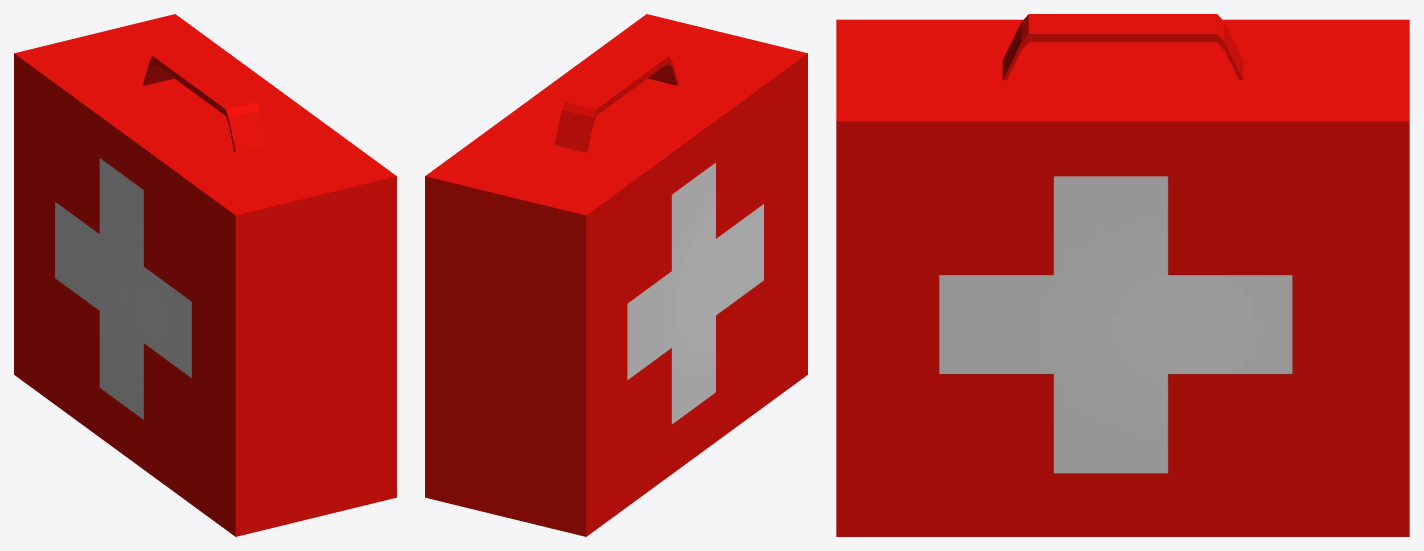
File: medkit_1.fbx
3 renders of one model, left to right at view 1: azimuth 30°, elevation 25°; view 2: azimuth 150°, elevation 25°; view 3: azimuth 270°, elevation 25°, orthographic. The views are drawn at different scales.
Parts seen in each view (by area): view 1: Cube.001; view 2: Cube.001; view 3: Cube.001.
Part boxes in pixels (x1,y1,x2,y2): Cube.001: (14, 14, 396, 536); Cube.001: (425, 14, 807, 536); Cube.001: (836, 14, 1409, 536).
Bounding box in the file's own units: 42 × 88.94 × 100.
